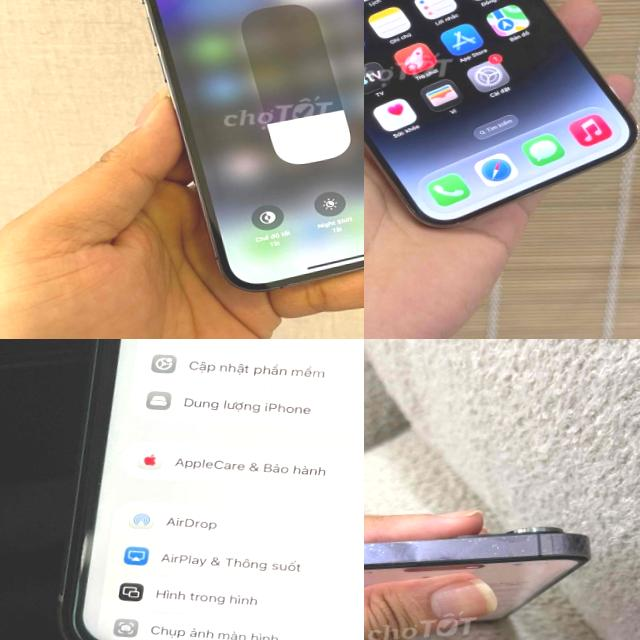gen_11: (18, 339, 364, 640)
gen_14: (115, 0, 364, 296), (364, 0, 640, 240), (364, 514, 600, 640)
scratch: (466, 539, 602, 569), (62, 525, 101, 606), (364, 532, 432, 575), (466, 525, 554, 552)
